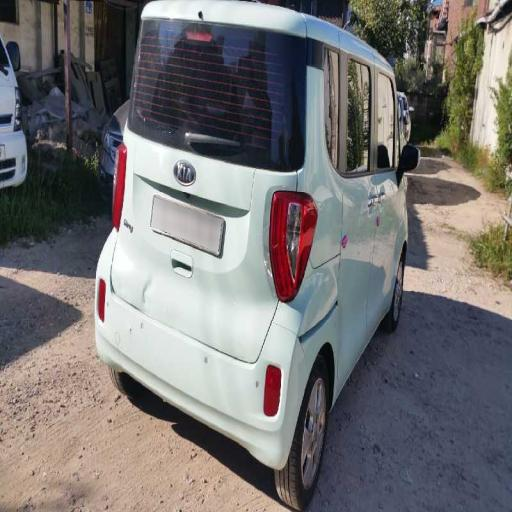dent: (276, 240, 346, 352), (129, 271, 164, 324)
